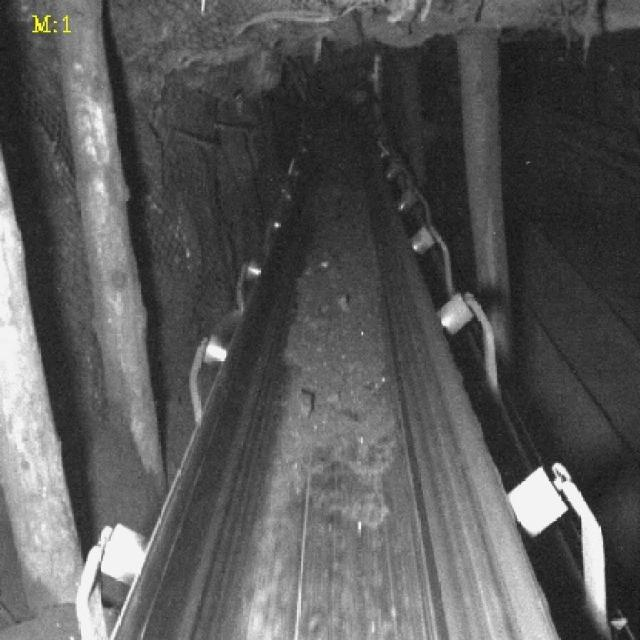large_sized_coal: (298, 389, 316, 417), (336, 292, 352, 312)
